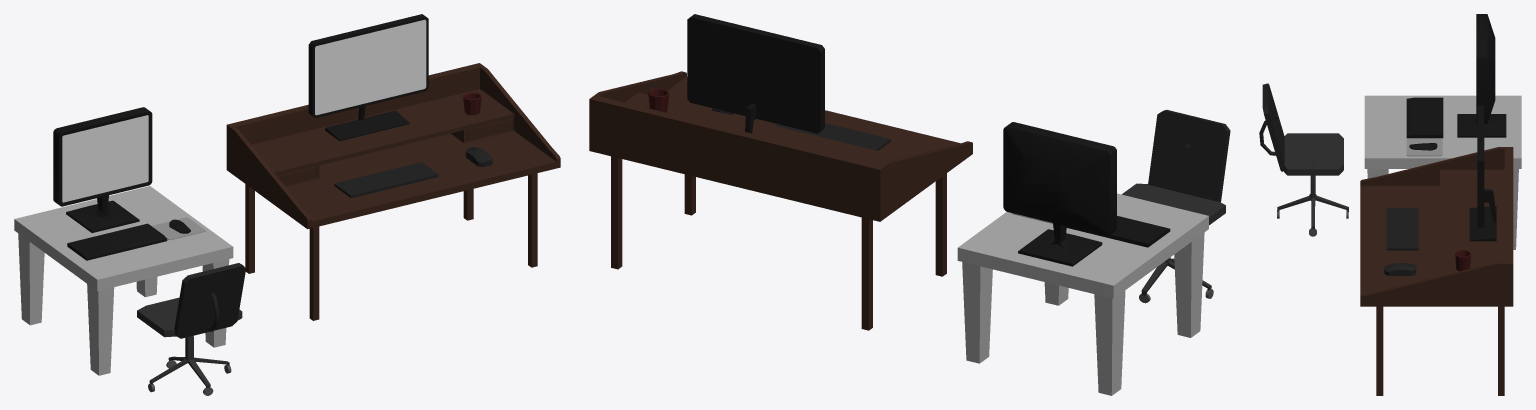
The picture shows the model from 3 angles, left to right: view 1: azimuth 30°, elevation 25°; view 2: azimuth 150°, elevation 25°; view 3: azimuth 270°, elevation 25°; orthographic projection. The views are drawn at different scales.
Parts seen in each view (by area): view 1: Table1, Table 2, Box009, Box003, Box014, Keyboard 2, Keyboard 1, Mouse Pad; view 2: Table1, Table 2, Box009, Box003, Box014, Keyboard 2, Keyboard 1; view 3: Table1, Table 2, Box014, Box003, Box009, Keyboard 2, Keyboard 1, Mouse Pad, Mouse 1, Cup.
Boxes of the visible parts, bbox=[...] form: Table1: bbox=[226, 63, 560, 320]; Table 2: bbox=[14, 186, 233, 375]; Box009: bbox=[308, 14, 428, 140]; Box003: bbox=[53, 107, 152, 232]; Box014: bbox=[137, 263, 245, 395]; Keyboard 2: bbox=[67, 223, 167, 260]; Keyboard 1: bbox=[334, 162, 438, 198]; Mouse Pad: bbox=[152, 217, 205, 240]; Table1: bbox=[589, 71, 972, 330]; Table 2: bbox=[957, 193, 1208, 395]; Box009: bbox=[687, 14, 824, 133]; Box003: bbox=[1003, 122, 1116, 266]; Box014: bbox=[1122, 110, 1230, 303]; Keyboard 2: bbox=[1066, 216, 1170, 247]; Keyboard 1: bbox=[775, 123, 890, 150]; Table1: bbox=[1360, 147, 1513, 395]; Table 2: bbox=[1364, 95, 1521, 249]; Box014: bbox=[1259, 83, 1348, 236]; Box003: bbox=[1457, 14, 1506, 137]; Box009: bbox=[1469, 105, 1496, 241]; Keyboard 2: bbox=[1406, 97, 1443, 138]; Keyboard 1: bbox=[1386, 208, 1418, 250]; Mouse Pad: bbox=[1406, 138, 1442, 156]; Mouse 1: bbox=[1384, 263, 1416, 275]; Cup: bbox=[1455, 250, 1470, 271].
Size of the model in its own units: 195 by 90.64 by 102.
